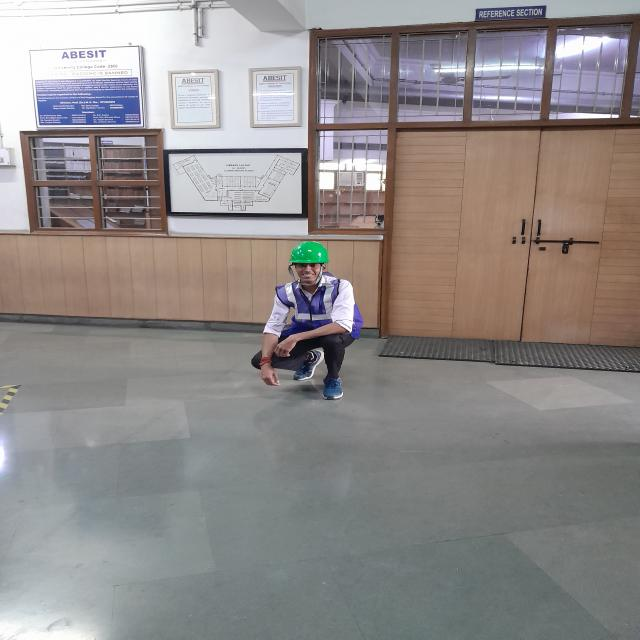safe: (252, 241, 363, 399)
